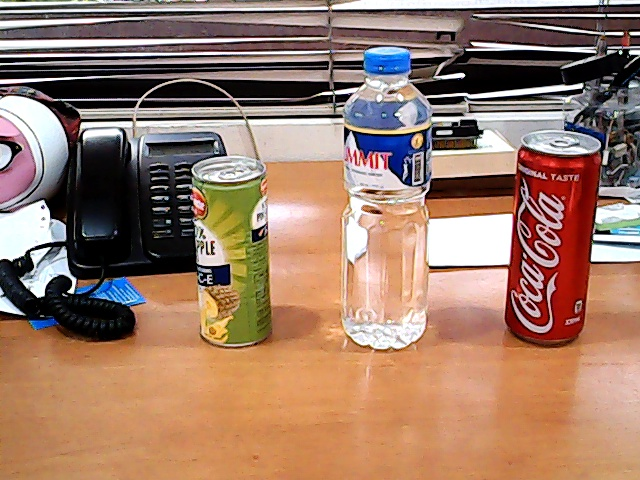Cola: (487, 113, 605, 360)
Pine Juice: (172, 146, 289, 360)
Summit Water: (323, 37, 461, 366)
